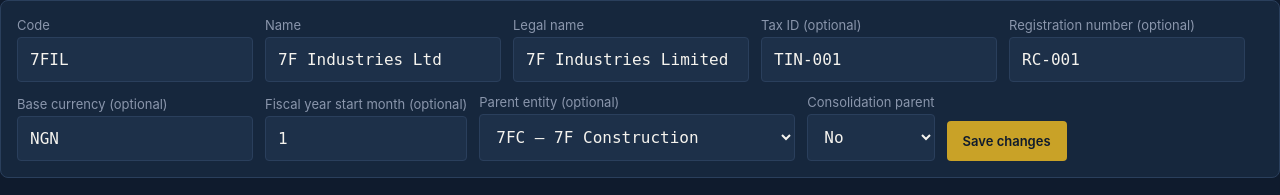
Test case: EditEntityForm › shows "Saved." and does NOT reset any field after a successful save
Click the button "Save changes" at (1007, 141), box x1=947 y1=121 x2=1067 y2=161
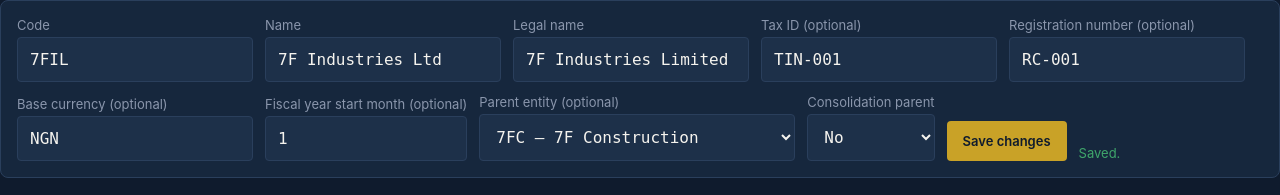
Expected: the field labelled "Code" holds "7FIL", x1=17 y1=37 x2=253 y2=82
Expected: the text "Saved." is shown, x1=1079 y1=145 x2=1120 y2=161
